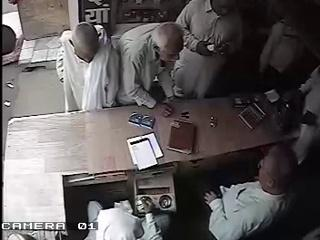Normal: (203, 144, 299, 240), (172, 0, 244, 100), (116, 22, 184, 117), (58, 22, 120, 112)
